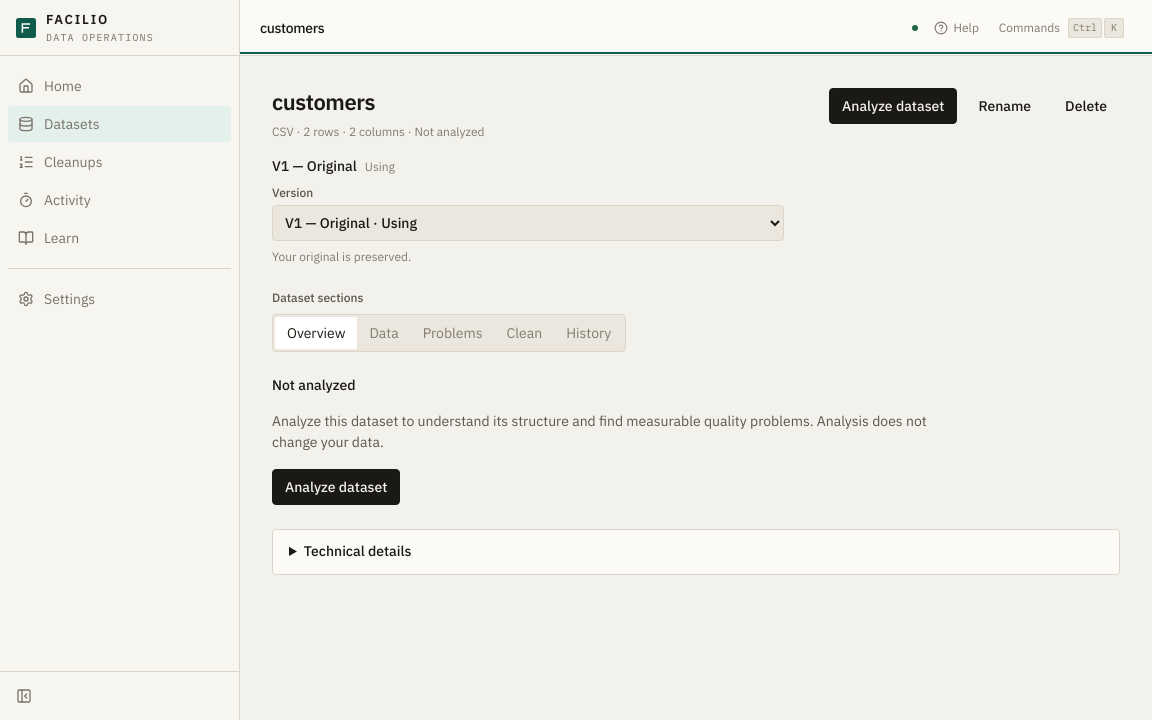
Test case: history shows branched parent relationships
Click the radio button labelled "History" at (589, 333), box [554, 317, 623, 349]
(page scrolled)
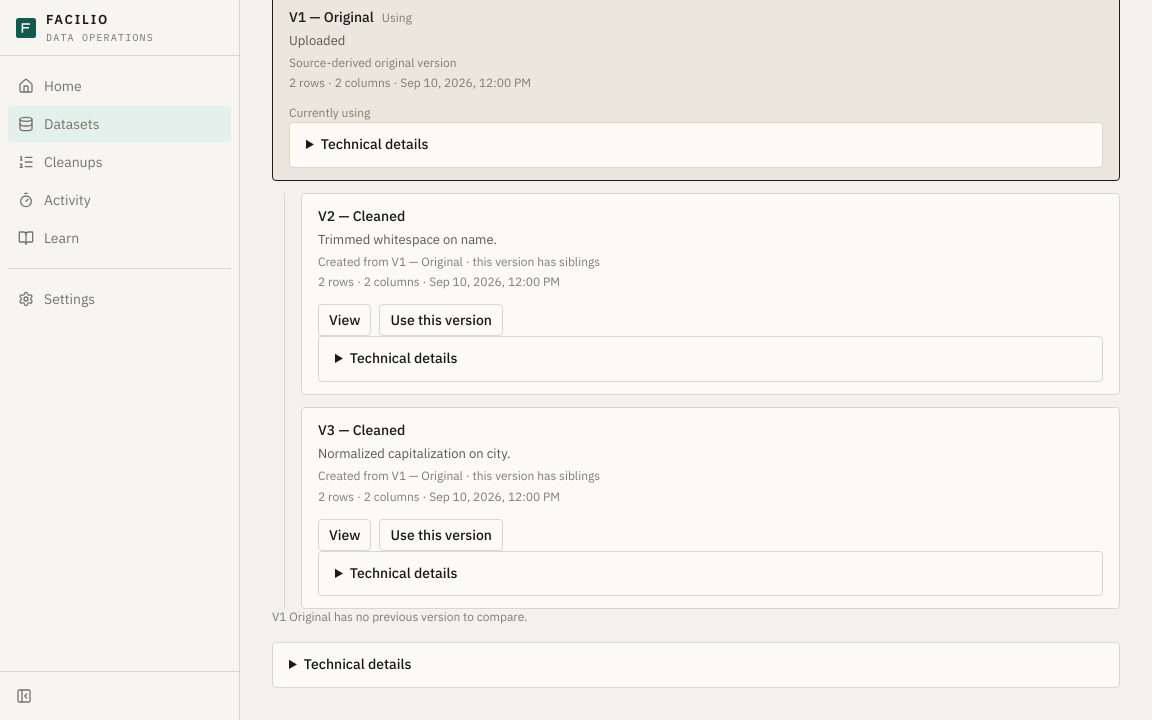
Result: the 1st text "Created from V1 — Original · this version has siblings" is shown at [318, 254, 600, 269]
Result: the list named "Versions created from V1 — Original" is shown at [284, 193, 1120, 609]
